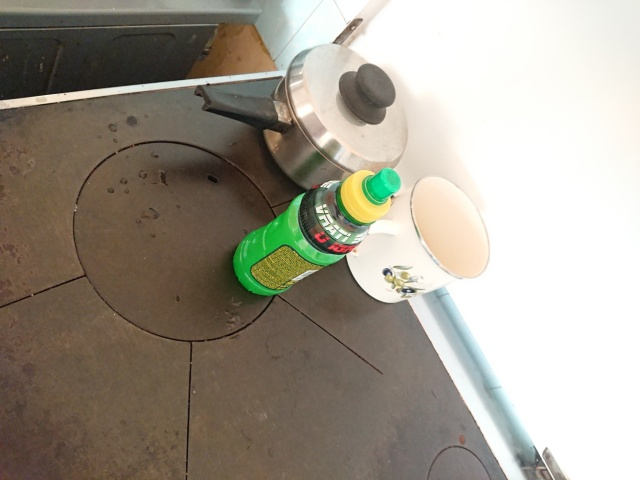Vindi Iso Sport Lemon-Grapefruit 500mL: (229, 165, 403, 300)
